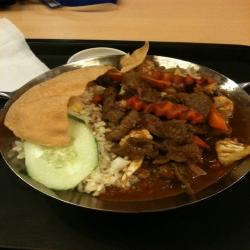rice: (70, 107, 136, 190)
